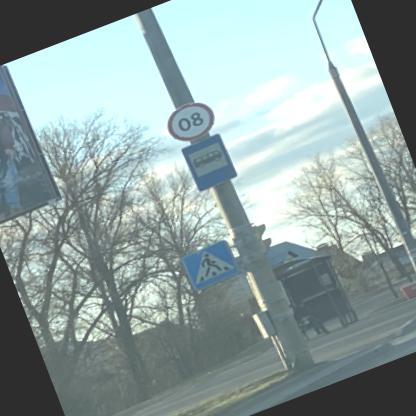crosswalk: (180, 235, 242, 290)
speedlimit: (164, 93, 224, 146)
